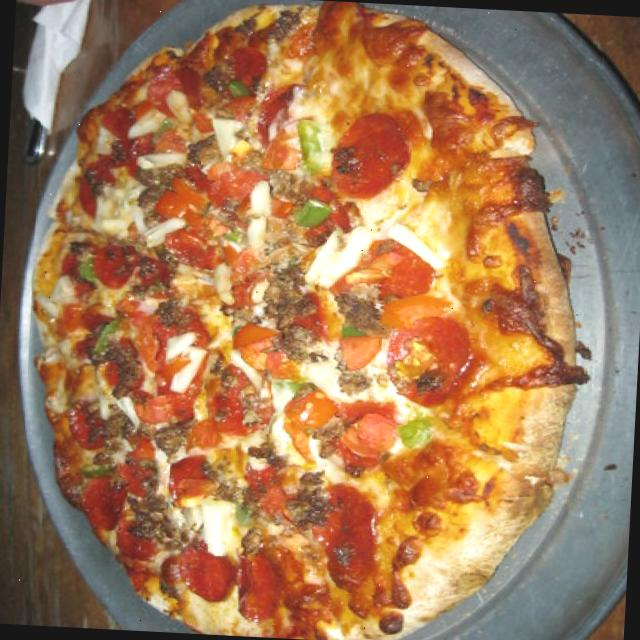pepperoni: (326, 106, 414, 202), (314, 480, 388, 594), (381, 318, 488, 396), (176, 32, 268, 109), (362, 235, 438, 308), (229, 556, 306, 626), (171, 541, 239, 605), (210, 364, 272, 434), (74, 472, 128, 530), (84, 240, 136, 290)
pizza: (31, 2, 586, 640)
